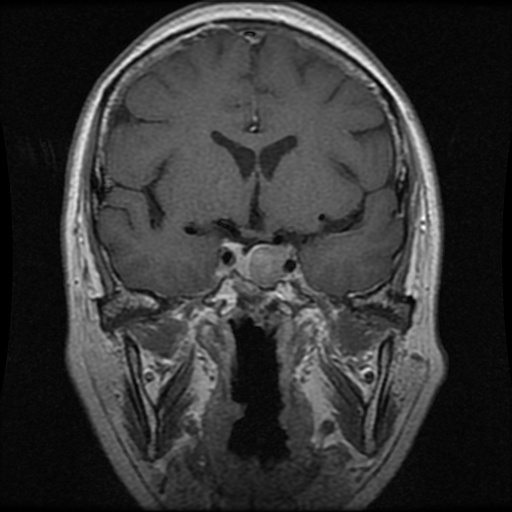pituitary: (236, 242, 294, 285)
